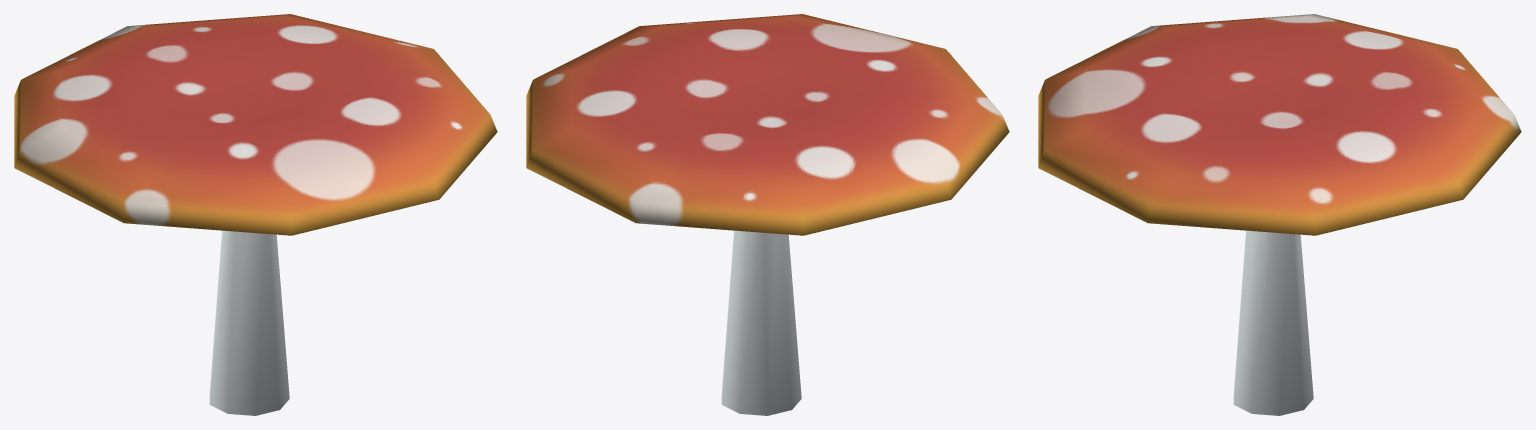
The model's file is seta.obj.
3 views of the same model, side by side, from view 1: azimuth 30°, elevation 25°; view 2: azimuth 150°, elevation 25°; view 3: azimuth 270°, elevation 25° (orthographic).
Parts seen in each view (by area): view 1: seta; view 2: seta; view 3: seta.
Boxes of the visible parts, <box> form: seta: <box>14,14,497,415</box>; seta: <box>526,14,1009,415</box>; seta: <box>1038,14,1521,415</box>.
Size of the model in its own units: 5.43 by 3.76 by 5.35.
